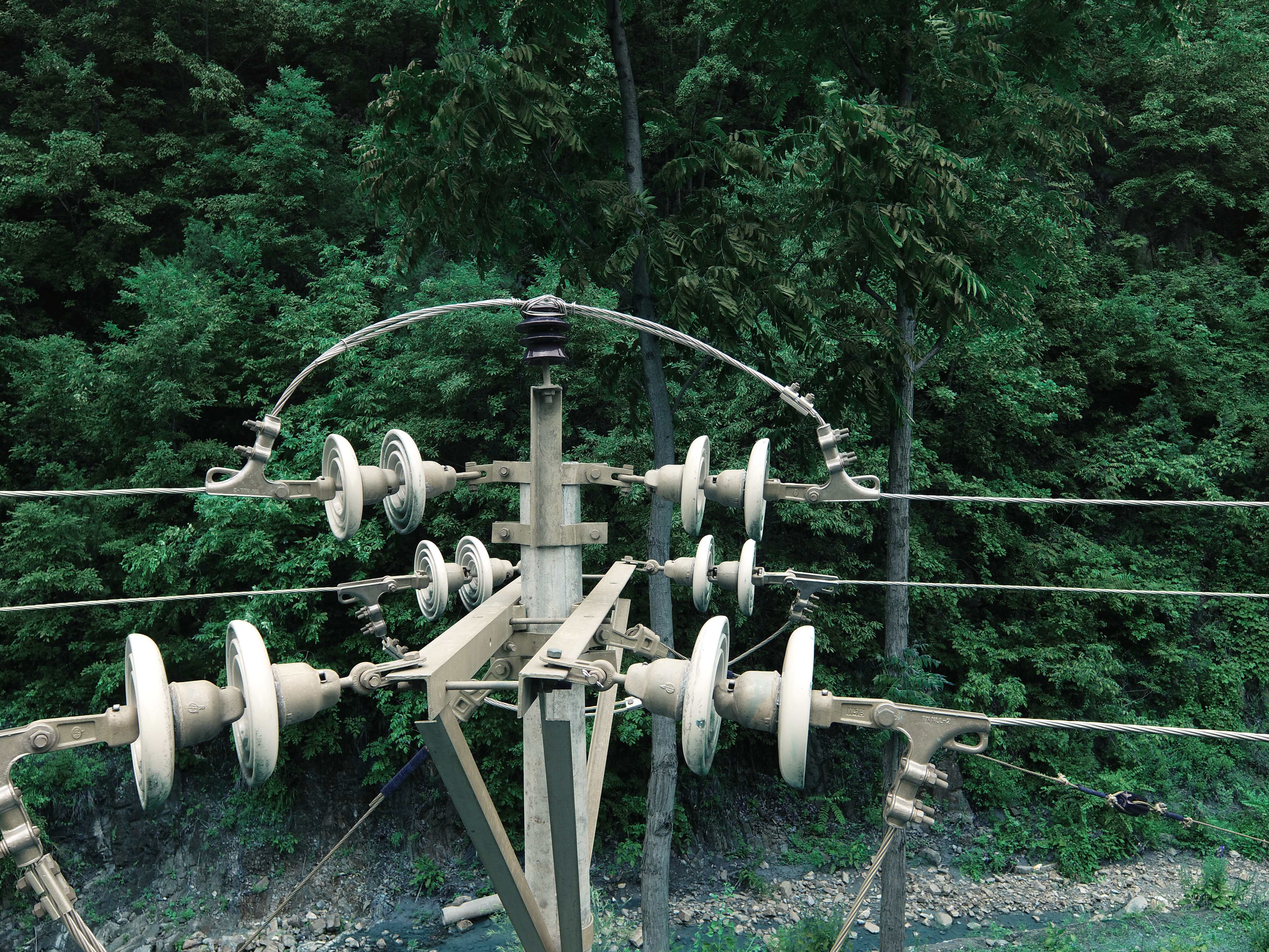severe_soiling_no_discharge_whole: (113, 616, 343, 819), (624, 610, 825, 796), (315, 422, 461, 543), (639, 428, 780, 545), (409, 533, 511, 621), (666, 532, 764, 615)
